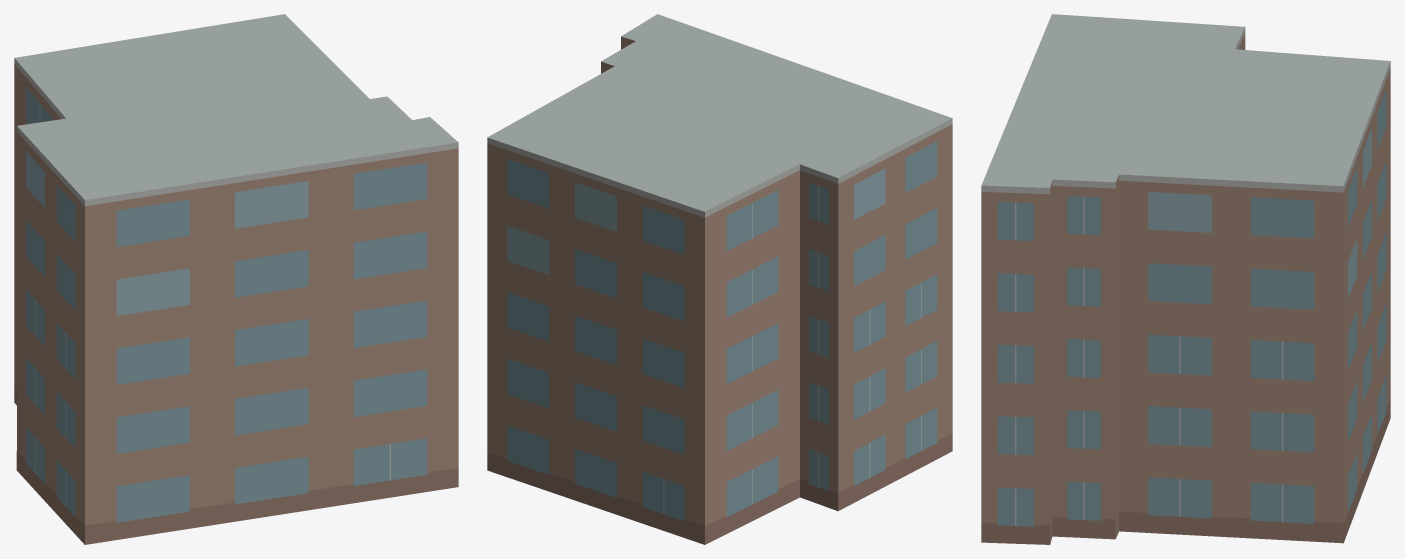
The model's file is survey-upis-32967099.glb.
The picture shows the model from 3 angles, left to right: view 1: azimuth 30°, elevation 25°; view 2: azimuth 150°, elevation 25°; view 3: azimuth 270°, elevation 25°; orthographic projection. The views are drawn at different scales.
Visible parts, largest first — view 1: survey-upis-32967099.tmp; view 2: survey-upis-32967099.tmp; view 3: survey-upis-32967099.tmp.
Part boxes in pixels (x1,y1,x2,y2): survey-upis-32967099.tmp: (14, 14, 458, 544); survey-upis-32967099.tmp: (487, 14, 952, 544); survey-upis-32967099.tmp: (981, 14, 1390, 544).
Bounding box in the file's own units: 14.59 × 13.95 × 14.51.
